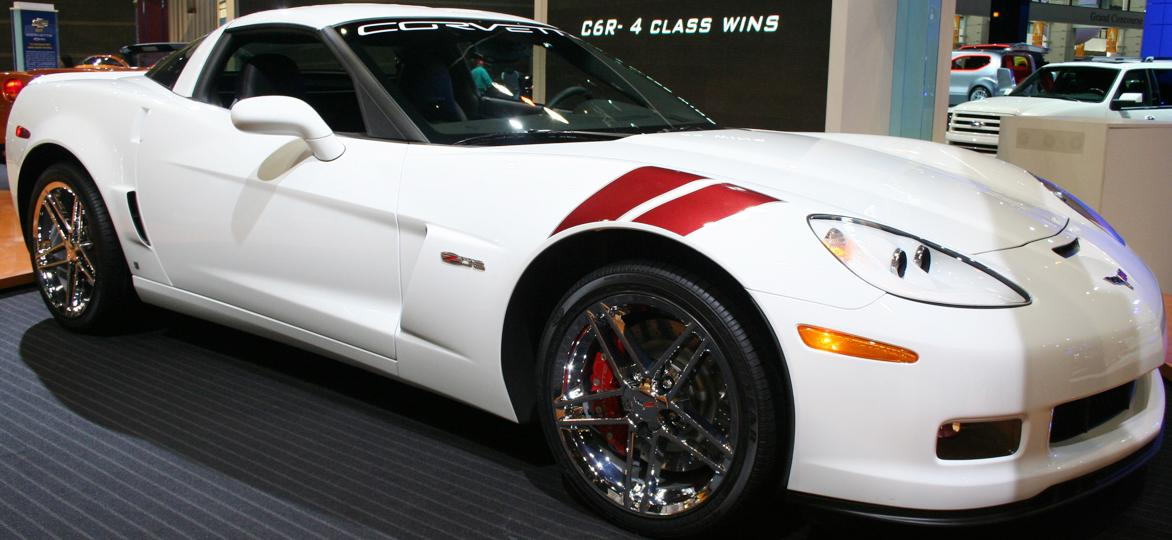front_view: (784, 179, 1172, 521)
headlight: (807, 200, 1042, 328)
side_glass: (182, 15, 383, 145)
